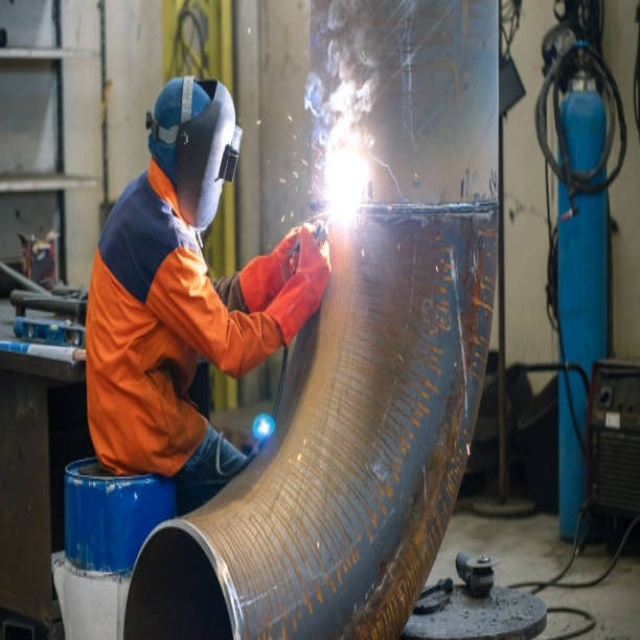Guantes: (260, 215, 333, 353), (233, 198, 307, 314)
